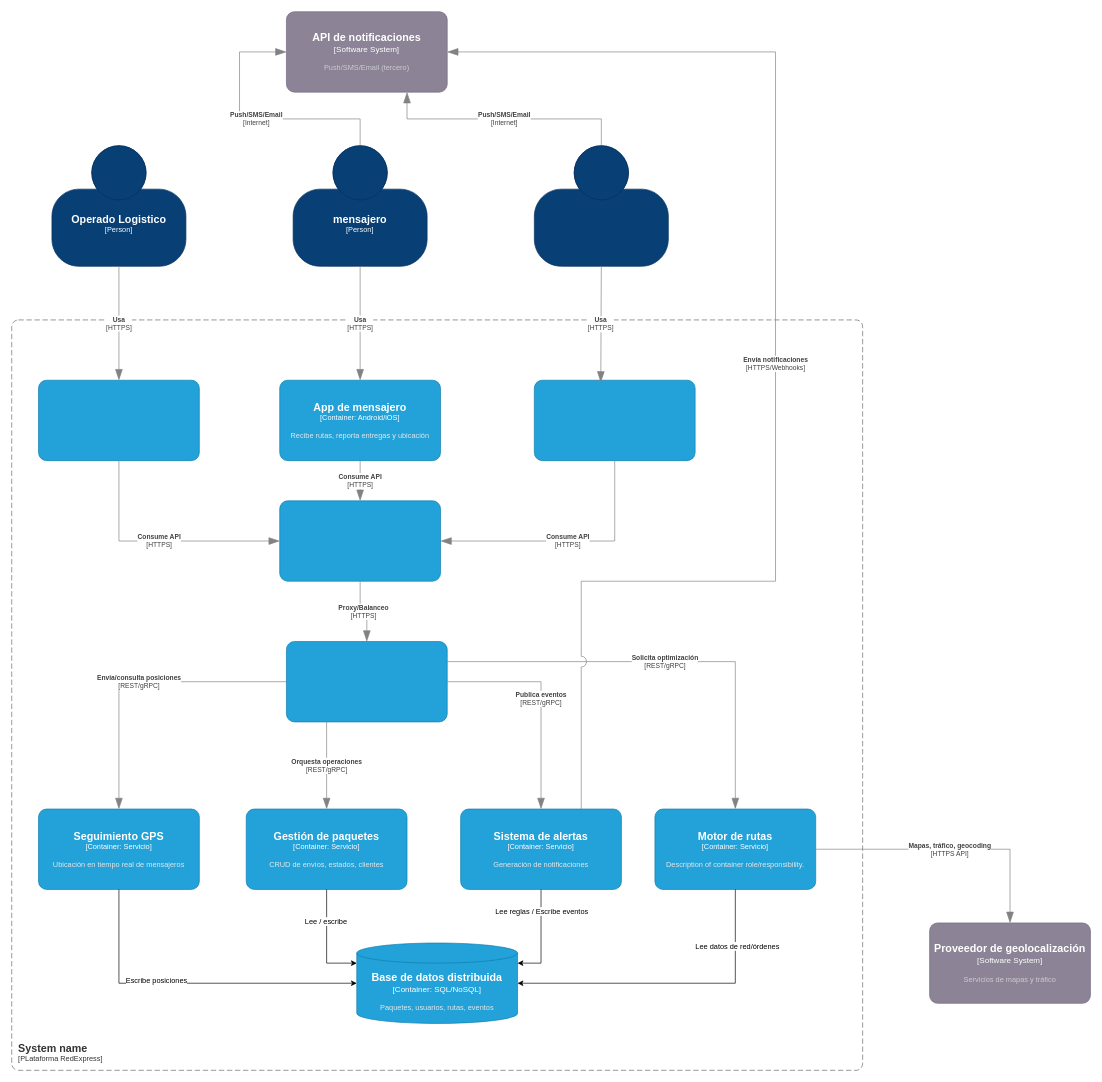
This 1102x1082 diagram has some shape labels left out. Each missing label, with the centre of its shape:
App de cliente [Container: Android/iOS o Web] Rastreo de envíos: the point at 614,420
Balanceador de carga [Container: Nginx/ELB] Distribuye tráfico: the point at 360,540
Sistema central de logística [Container: Backend REST] Orquestación de negocio: the point at 366,681
Usuario FInal [Person]: the point at 601,205
Web operadores [Container: SPA] Gestión de operaciones y rutas: the point at 118,420
